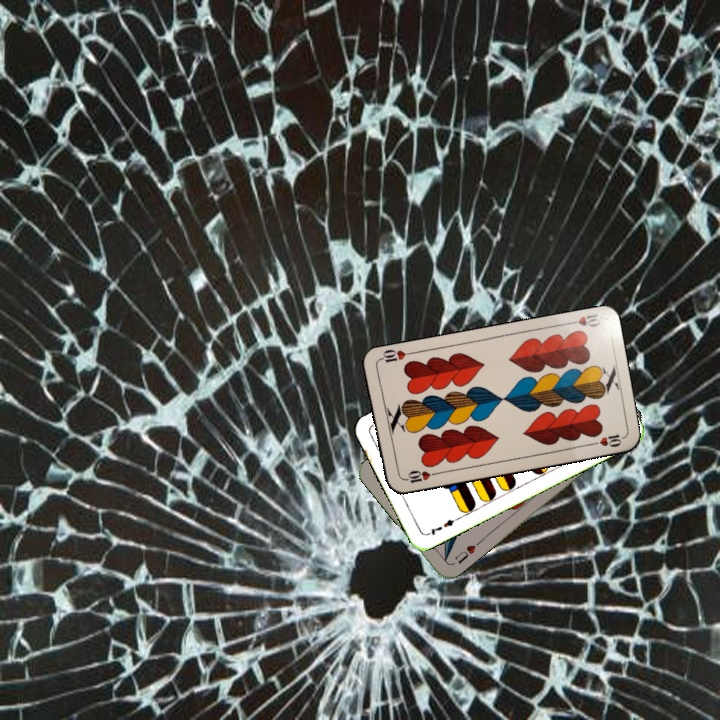E7: (423, 514, 461, 538)
H10: (562, 310, 604, 330), (399, 466, 440, 486)
HU: (450, 538, 482, 567)
